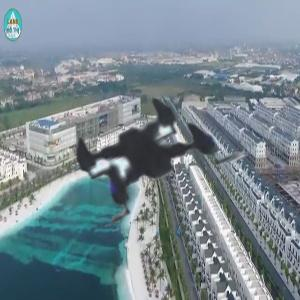drone: (11, 22, 280, 291)
